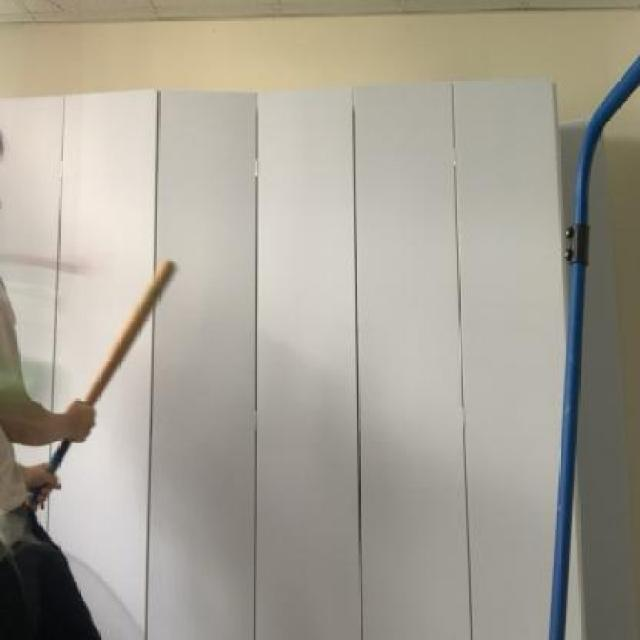baseball: (0, 347, 74, 425)
